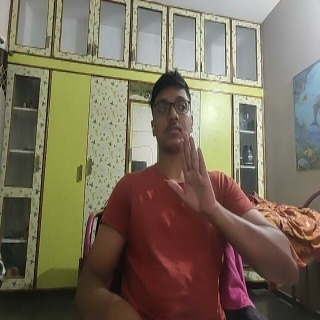Hello: (164, 132, 218, 217)
